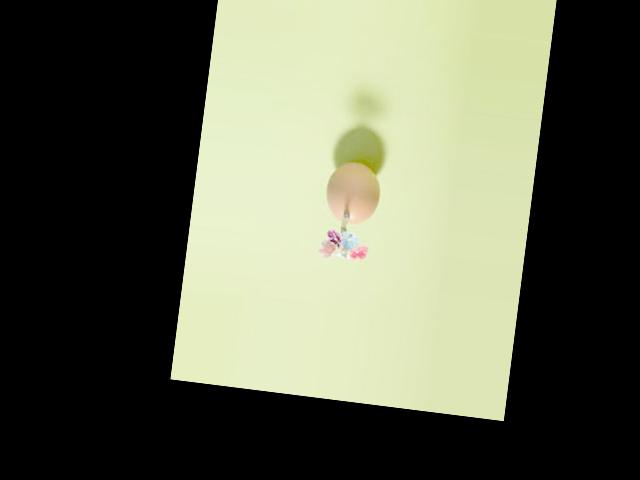egg: (322, 158, 382, 225)
